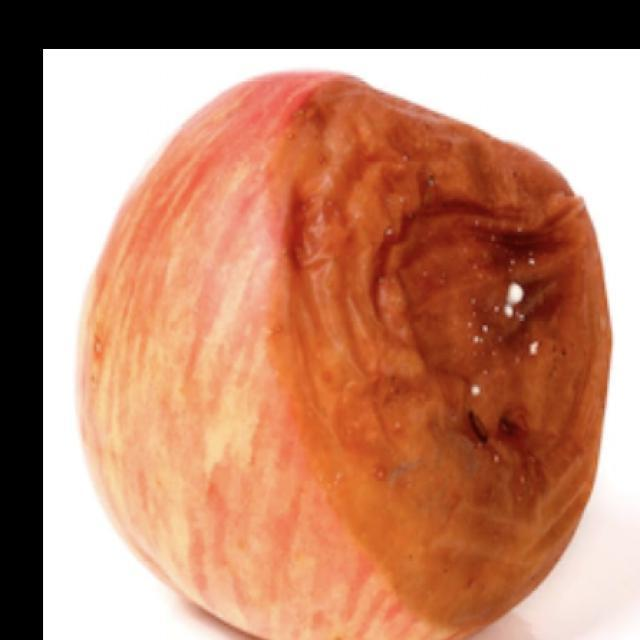Rotten: (68, 62, 613, 640)
